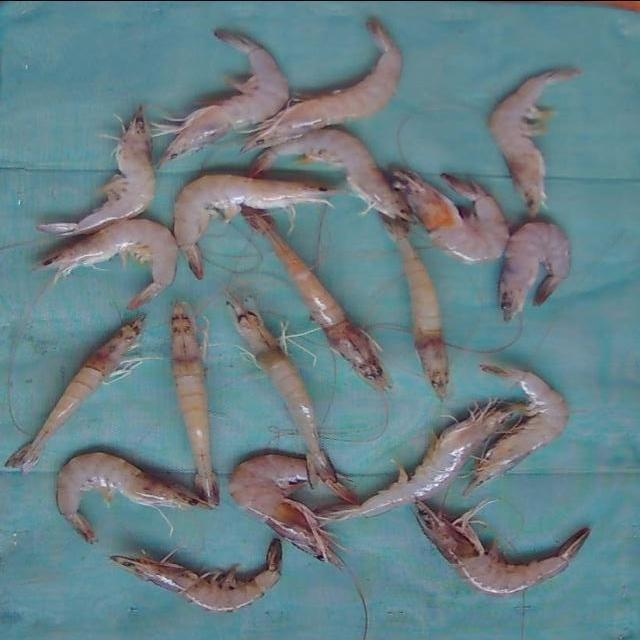shrimp: (227, 291, 357, 503), (242, 206, 390, 392), (315, 401, 529, 525), (5, 315, 143, 473), (243, 18, 402, 148), (152, 30, 289, 166), (173, 173, 336, 278), (417, 502, 591, 596), (37, 106, 154, 235), (248, 128, 413, 218), (55, 452, 213, 544), (464, 365, 570, 495), (491, 68, 582, 216), (32, 218, 177, 310), (229, 454, 343, 568), (110, 539, 282, 612), (383, 214, 449, 398), (391, 168, 510, 263), (171, 302, 218, 505), (499, 221, 571, 320)
